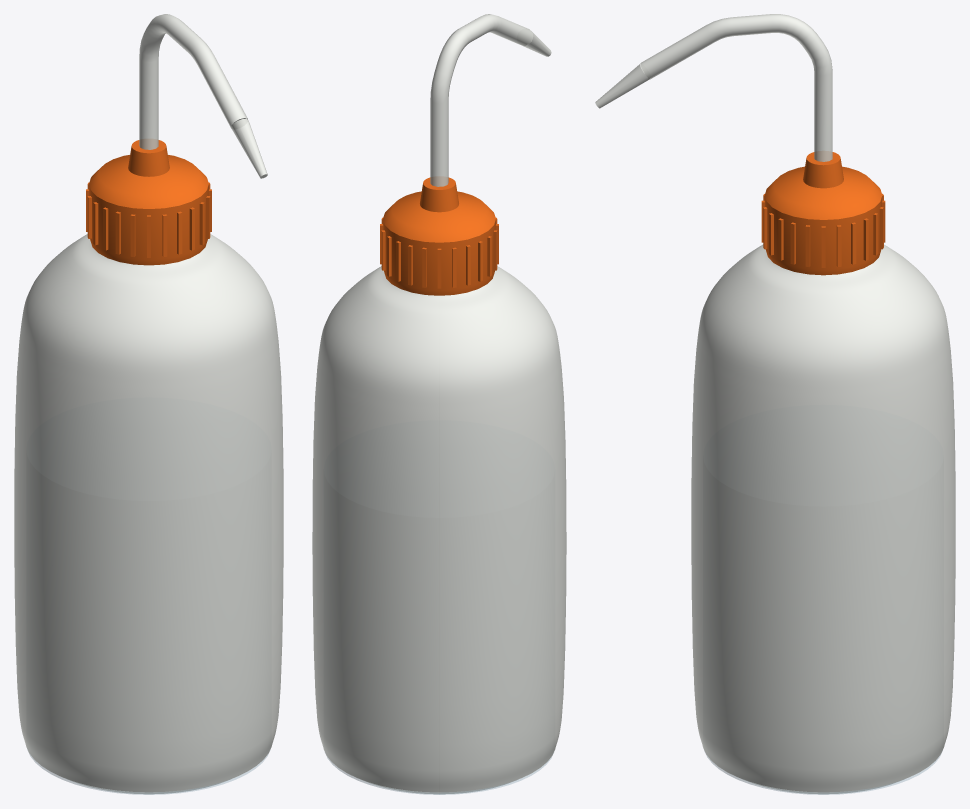
Rendered from wash-bottle.glb.
3 views of the same model, side by side, from view 1: azimuth 30°, elevation 25°; view 2: azimuth 150°, elevation 25°; view 3: azimuth 270°, elevation 25° (orthographic). The views are drawn at different scales.
Parts seen in each view (by area): view 1: Wash_Bottle, Cap; view 2: Wash_Bottle, Cap; view 3: Wash_Bottle, Cap.
Part boxes in pixels (box(x1,y1,x2,y2)): Wash_Bottle: box(14, 234, 283, 794); Cap: box(86, 14, 267, 265); Wash_Bottle: box(312, 266, 566, 794); Cap: box(380, 14, 551, 295); Wash_Bottle: box(691, 244, 955, 794); Cap: box(595, 14, 885, 275).
Bounding box in the file's own units: 0.0773 × 0.2376 × 0.1054.
